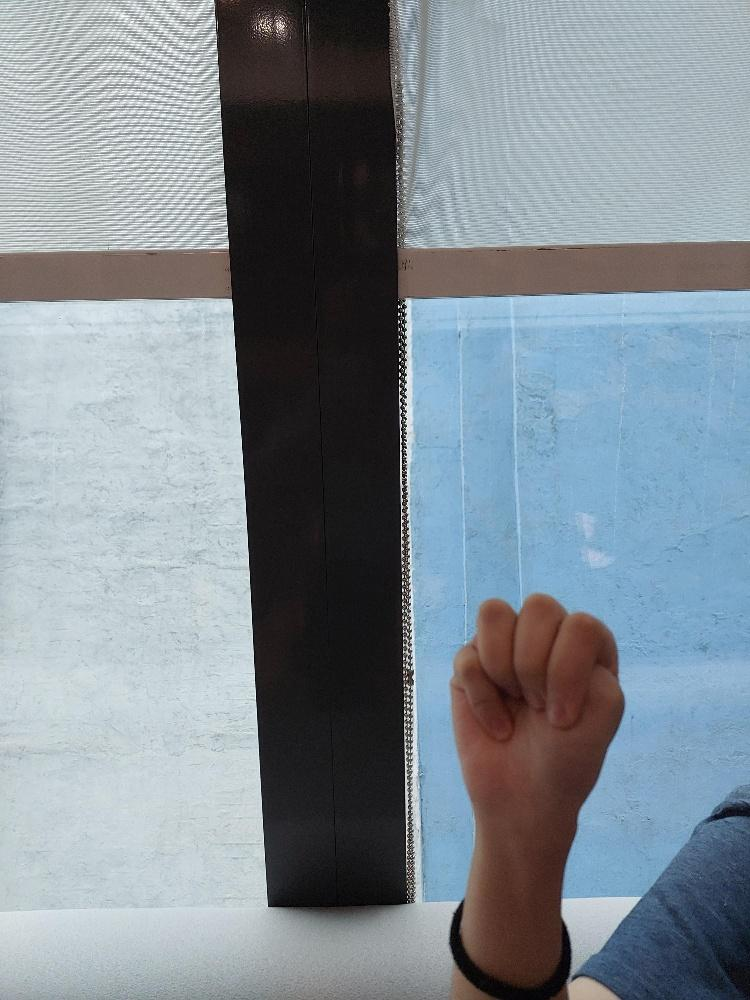m: (448, 592, 625, 798)
